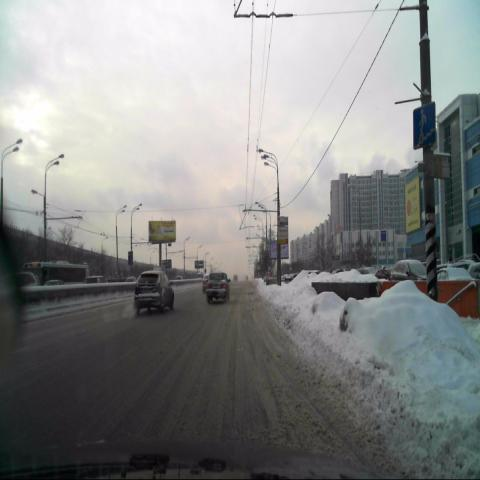6_6: (412, 101, 437, 152)
